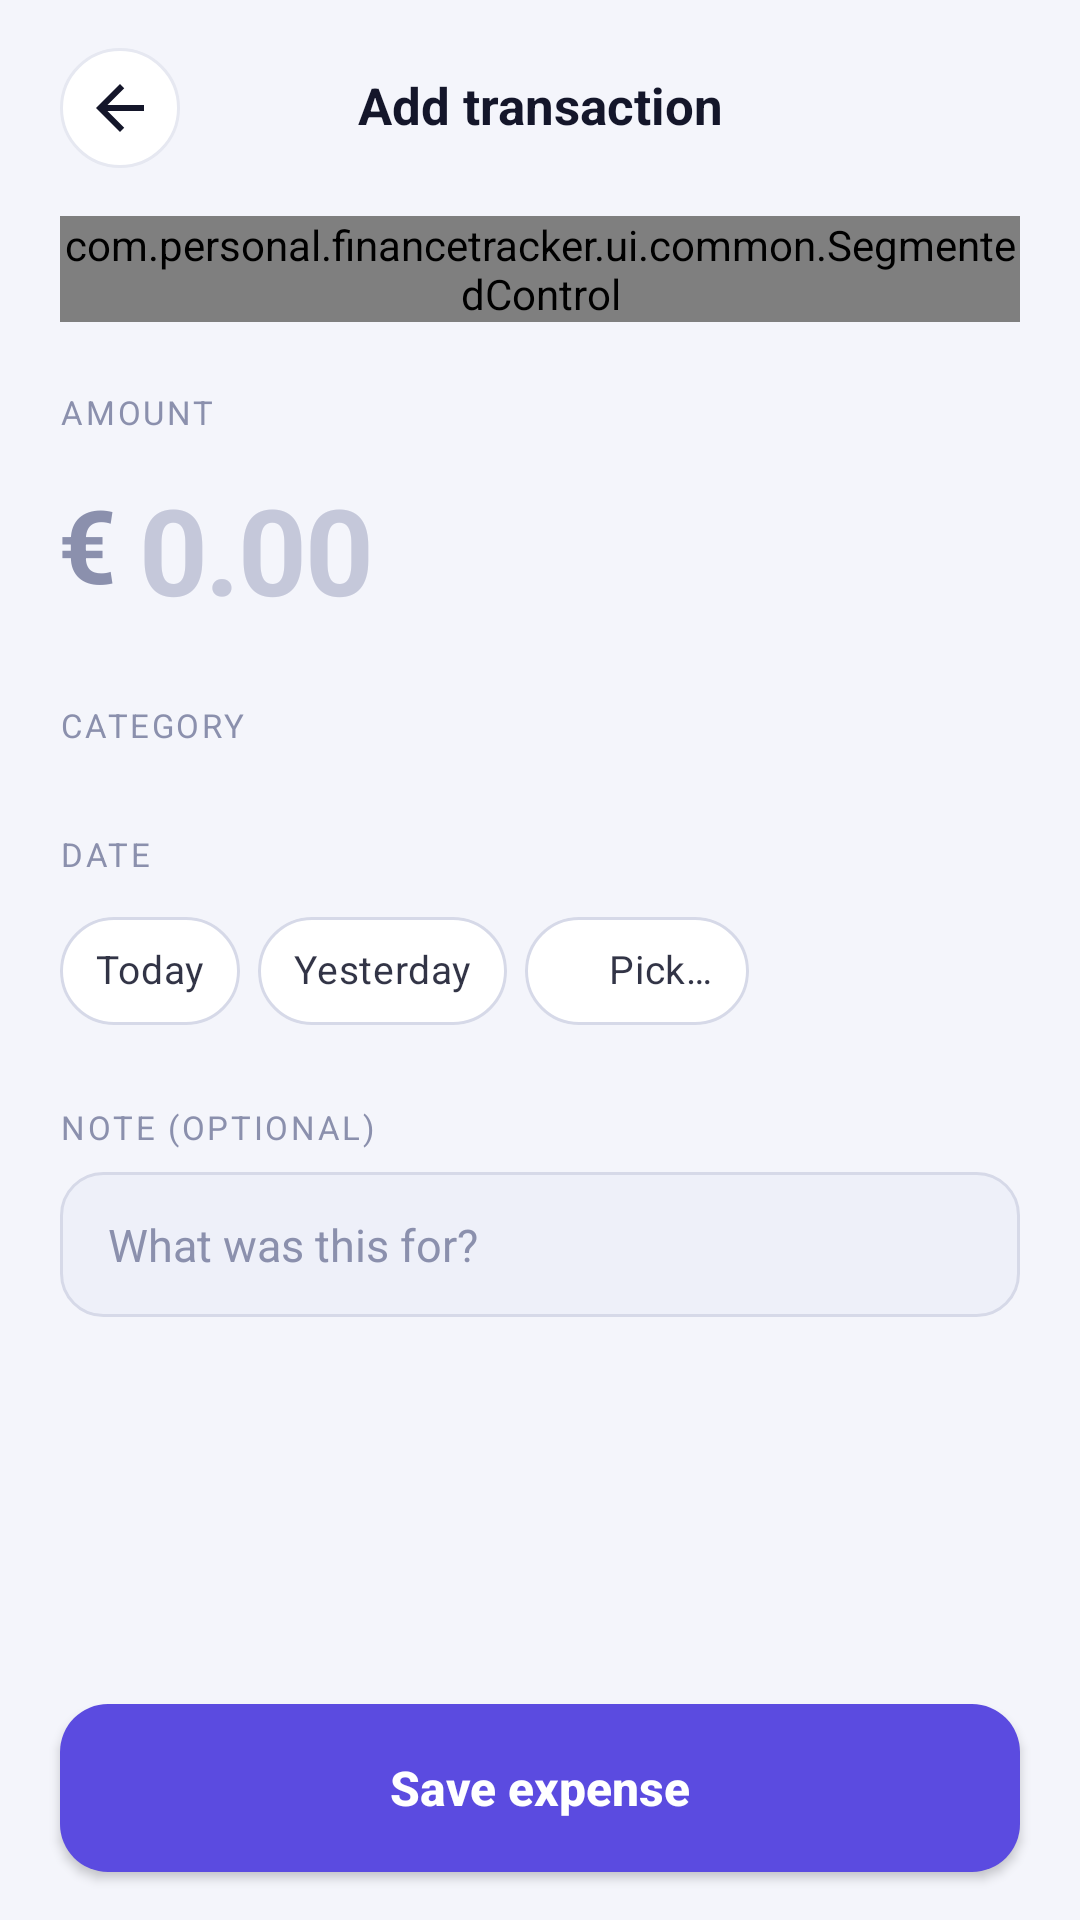

Icon bounding boxes for this 1080 x 1920 phone screenshot, format (x1, y1, x2, y2):
Back: (60, 48, 180, 168)
